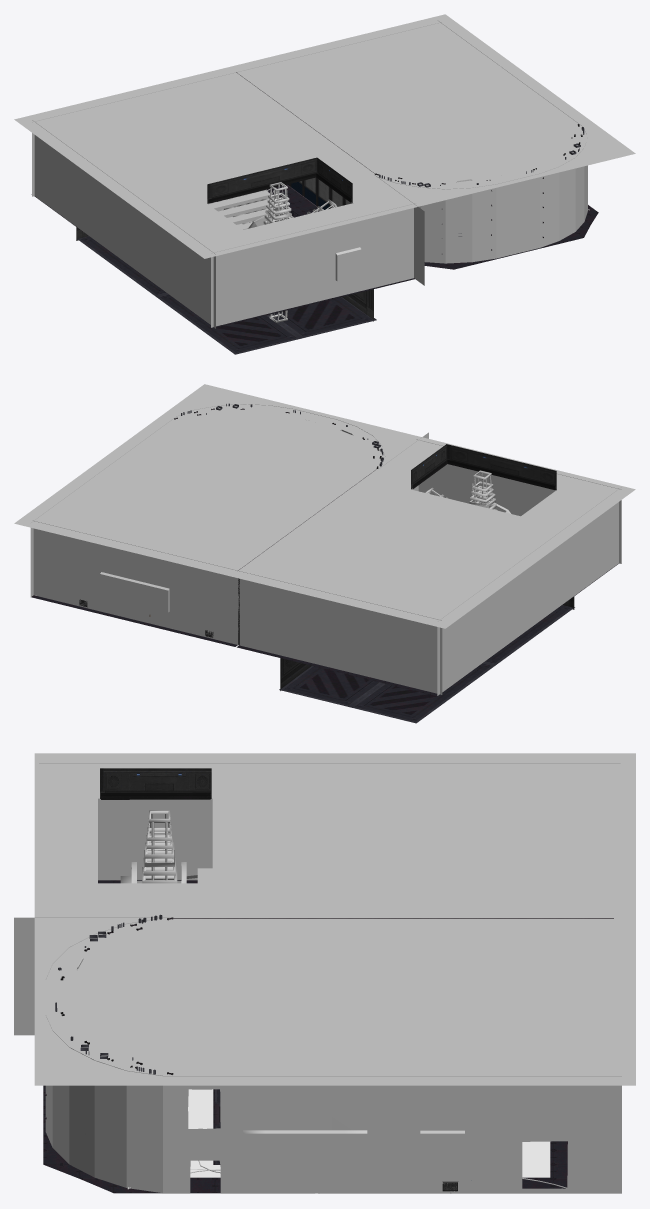
Rendered from arcade_antman.fbx.
3 renders of one model, top to bottom at view 1: azimuth 30°, elevation 25°; view 2: azimuth 150°, elevation 25°; view 3: azimuth 270°, elevation 25°, orthographic. The views are drawn at different scales.
Parts seen in each view (by area): view 1: arcade_antman2_hanklab_a01_ceil_01, arcade_antman2_hanklab_a01_wall_01, arcade_antman2_hanklab_a01_ter_04, arcade_antman2_hanklab_a01_obj_03, rotor, arcade_antman2_hanklab_a01_ter_01, arcade_antman2_hanklab_a01_wall_02, arcade_antman2_hanklab_a01_alp_01; view 2: arcade_antman2_hanklab_a01_ceil_01, arcade_antman2_hanklab_a01_wall_01, arcade_antman2_hanklab_a01_ter_04, rotor, arcade_antman2_hanklab_a01_ter_01; view 3: arcade_antman2_hanklab_a01_ceil_01, arcade_antman2_hanklab_a01_wall_01, arcade_antman2_hanklab_a01_ter_04, arcade_antman2_hanklab_a01_ter_01, arcade_antman2_hanklab_a01_navi_02, rotor, arcade_antman2_hanklab_a01_wall_02, arcade_antman2_hanklab_a01_obj_03.
Part boxes in pixels (x1,y1,x2,y2): arcade_antman2_hanklab_a01_ceil_01: (14, 14, 635, 258); arcade_antman2_hanklab_a01_wall_01: (32, 21, 587, 328); arcade_antman2_hanklab_a01_ter_04: (31, 157, 414, 354); arcade_antman2_hanklab_a01_obj_03: (207, 187, 293, 229); rotor: (243, 182, 337, 322); arcade_antman2_hanklab_a01_ter_01: (424, 205, 598, 269); arcade_antman2_hanklab_a01_wall_02: (236, 72, 582, 254); arcade_antman2_hanklab_a01_alp_01: (299, 177, 352, 206); arcade_antman2_hanklab_a01_ceil_01: (14, 384, 635, 628); arcade_antman2_hanklab_a01_wall_01: (30, 404, 621, 695); arcade_antman2_hanklab_a01_ter_04: (237, 444, 618, 723); rotor: (425, 470, 497, 510); arcade_antman2_hanklab_a01_ter_01: (31, 595, 237, 646); arcade_antman2_hanklab_a01_ceil_01: (34, 753, 635, 1085); arcade_antman2_hanklab_a01_wall_01: (14, 763, 621, 1193); arcade_antman2_hanklab_a01_ter_04: (98, 768, 211, 883); arcade_antman2_hanklab_a01_ter_01: (43, 1085, 567, 1193); arcade_antman2_hanklab_a01_navi_02: (188, 1089, 550, 1177); rotor: (137, 810, 181, 883); arcade_antman2_hanklab_a01_wall_02: (44, 917, 613, 1119); arcade_antman2_hanklab_a01_obj_03: (120, 862, 212, 883).
Bounding box in the file's own units: 58.09 × 17.96 × 45.97.
5 materials, 3 textured.
